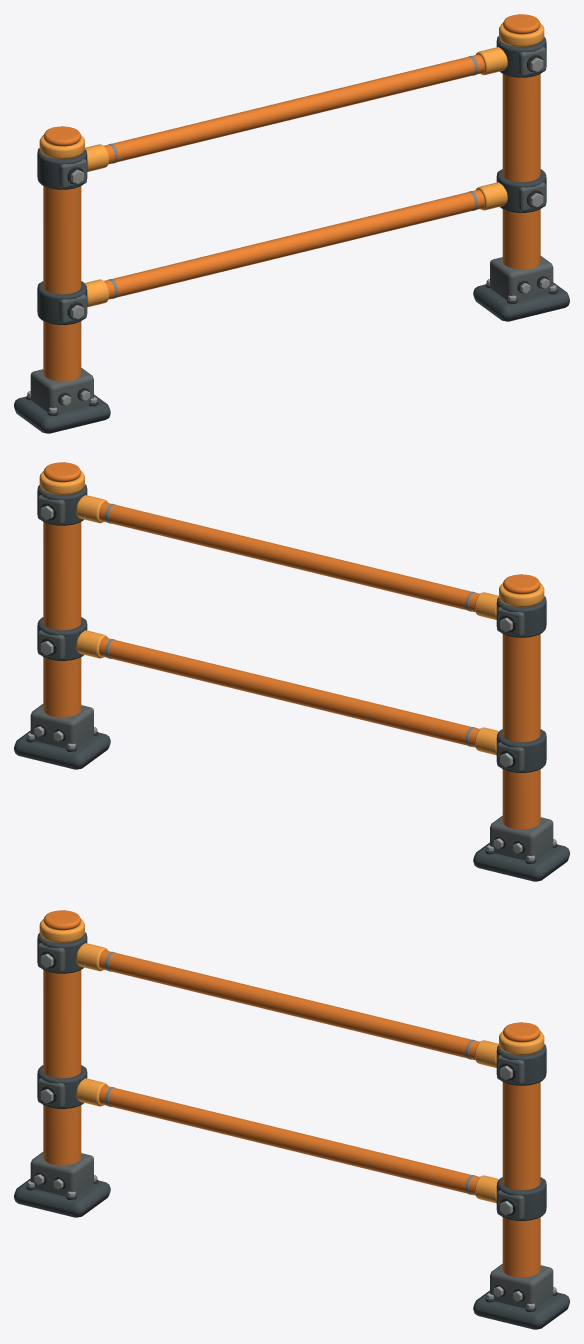
The model's file is wsc-prop-039-mover-guardrail.glb.
3 views of the same model, one above another, from view 1: azimuth 30°, elevation 25°; view 2: azimuth 150°, elevation 25°; view 3: azimuth 330°, elevation 25° (orthographic).
Parts seen in each view (by area): view 1: wsc-prop-039-mover-guardrail; view 2: wsc-prop-039-mover-guardrail; view 3: wsc-prop-039-mover-guardrail.
Part boxes in pixels (x1,y1,x2,y2): wsc-prop-039-mover-guardrail: [14, 14, 569, 433]; wsc-prop-039-mover-guardrail: [14, 462, 569, 881]; wsc-prop-039-mover-guardrail: [14, 910, 569, 1329].
Size of the model in its own units: 2.9 by 1.49 by 0.32.
